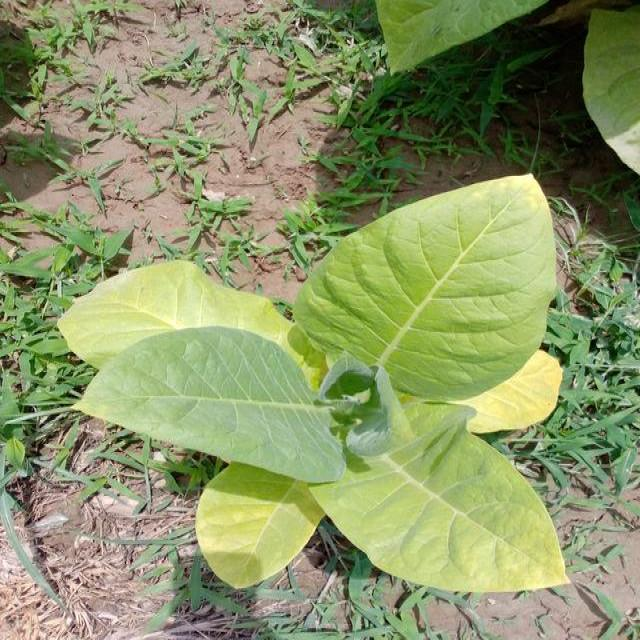crop: (59, 172, 574, 595)
